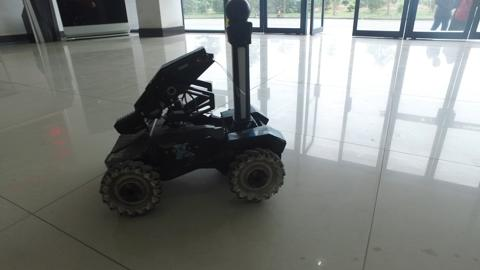chariot: (100, 1, 286, 217)
